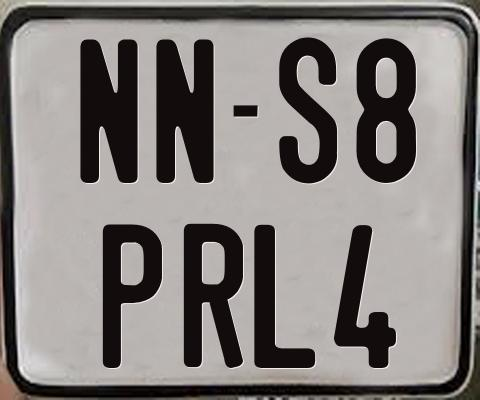4: (334, 222, 401, 368)
8: (356, 36, 416, 182)
L: (252, 222, 319, 365)
N: (79, 39, 142, 188), (155, 39, 215, 186)
P: (100, 224, 161, 368)
R: (183, 223, 242, 369)
S: (278, 34, 339, 181)
